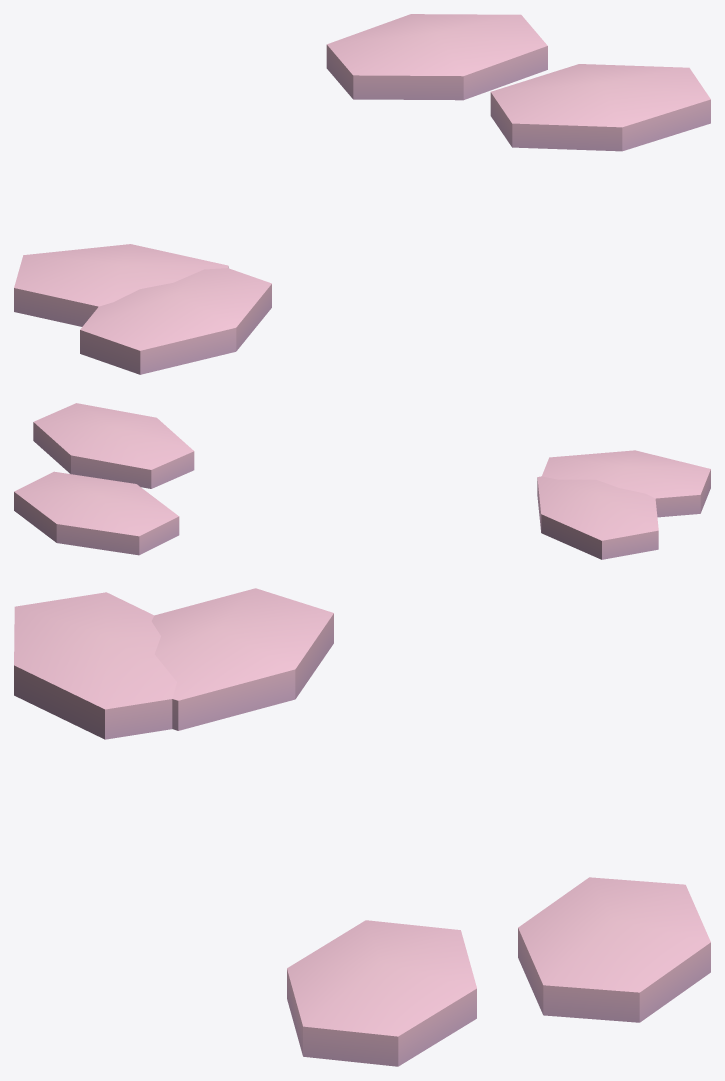
File: tiny_petals.glb
The picture shows the model from 3 angles, top to bottom: view 1: azimuth 30°, elevation 25°; view 2: azimuth 150°, elevation 25°; view 3: azimuth 270°, elevation 25°; orthographic projection. The views are drawn at different scales.
Parts seen in each view (by area): view 1: tiny_petals; view 2: tiny_petals; view 3: tiny_petals.
Part boxes in pixels (x1,y1,x2,y2): tiny_petals: [14, 14, 710, 374]; tiny_petals: [14, 403, 710, 559]; tiny_petals: [14, 588, 710, 1066].
Bounding box in the file's own units: 0.1594 × 0.01 × 0.1047.
